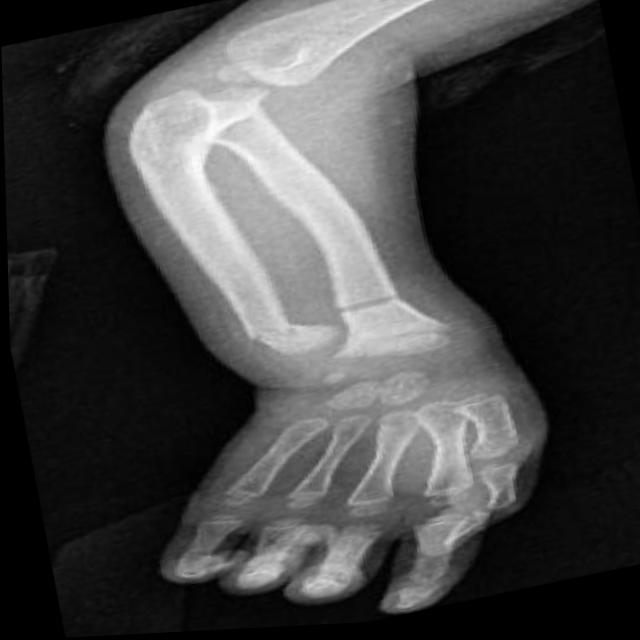fracture: (320, 282, 411, 332), (225, 315, 306, 357)
